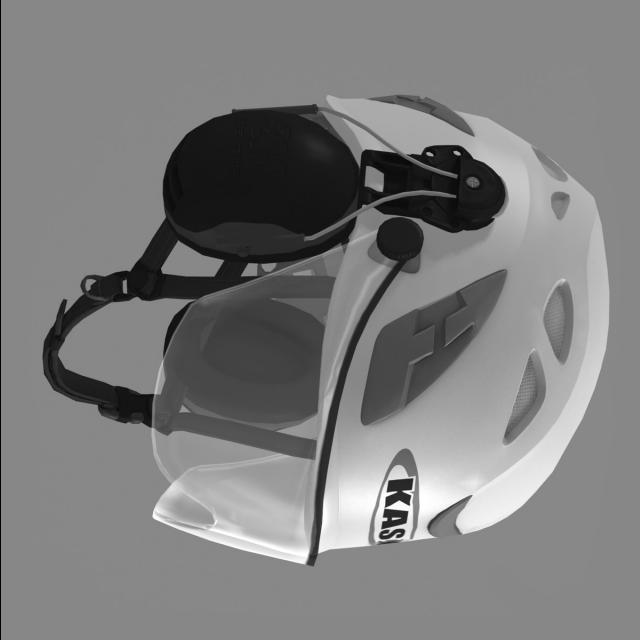safety_helmet: (41, 93, 609, 565)
